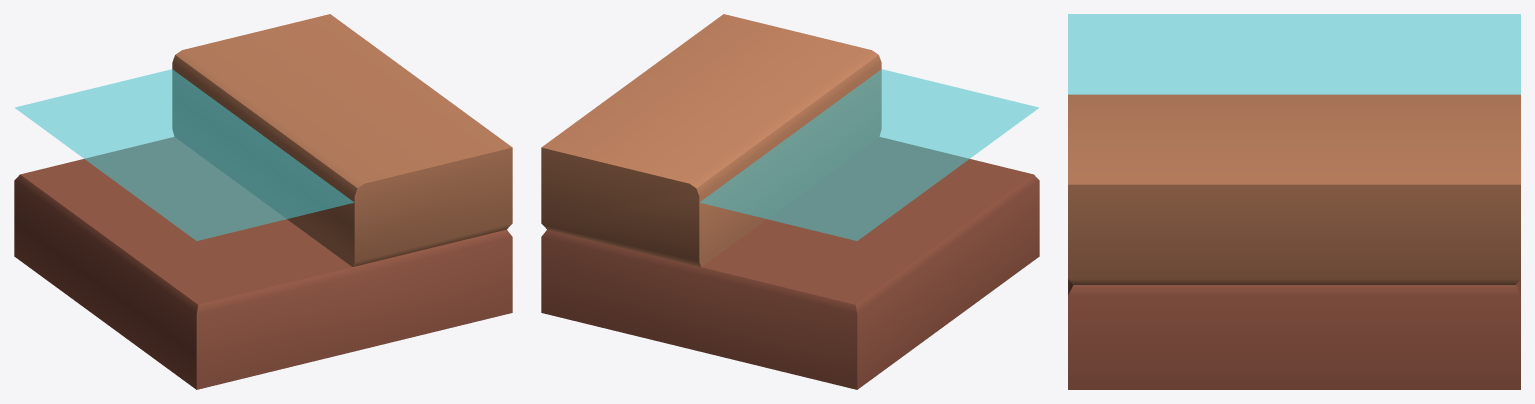
File: square_rock_waterStraight_noSides.fbx
The picture shows the model from 3 angles, left to right: view 1: azimuth 30°, elevation 25°; view 2: azimuth 150°, elevation 25°; view 3: azimuth 270°, elevation 25°; orthographic projection. The views are drawn at different scales.
Visible parts, largest first — view 1: square_rock_waterStraight_noSides; view 2: square_rock_waterStraight_noSides; view 3: square_rock_waterStraight_noSides.
Boxes of the visible parts, x1,y1,x2,y2 form: square_rock_waterStraight_noSides: (14, 14, 512, 389); square_rock_waterStraight_noSides: (541, 14, 1039, 389); square_rock_waterStraight_noSides: (1068, 14, 1520, 389).
Size of the model in its own units: 2 by 1 by 2.
